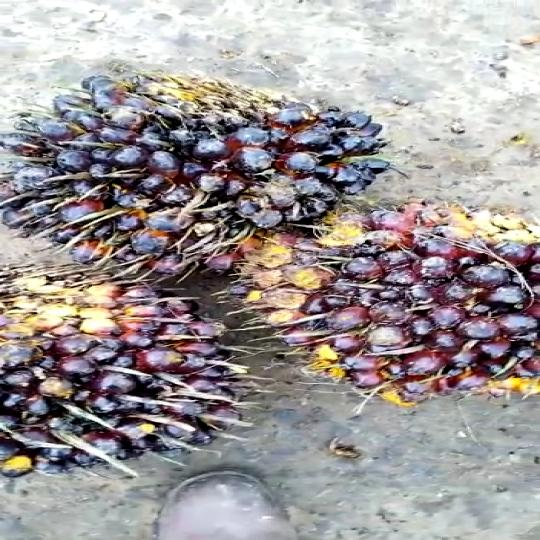mentah: (0, 74, 401, 278), (241, 203, 540, 408), (0, 265, 279, 474)
